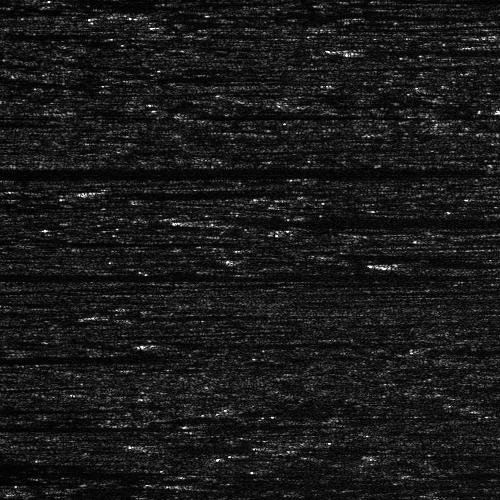rock: (133, 214, 258, 227), (137, 480, 210, 489), (316, 46, 389, 53), (66, 189, 129, 196), (131, 443, 194, 450), (359, 261, 422, 266), (316, 251, 357, 256), (495, 106, 500, 111)
shadow: (196, 214, 500, 227), (0, 272, 368, 279), (0, 167, 395, 172), (174, 480, 371, 489), (98, 189, 294, 196), (353, 46, 500, 53), (337, 251, 474, 256), (391, 261, 500, 266), (163, 443, 229, 450), (0, 408, 62, 411)
